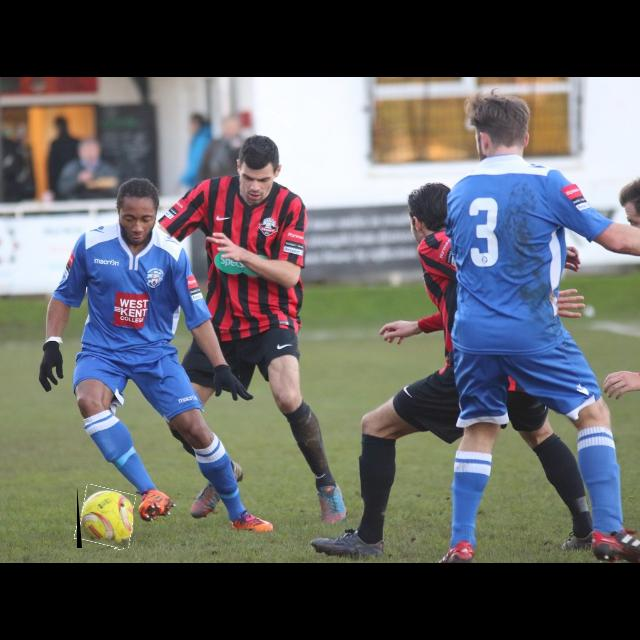Football: (77, 486, 133, 548)
